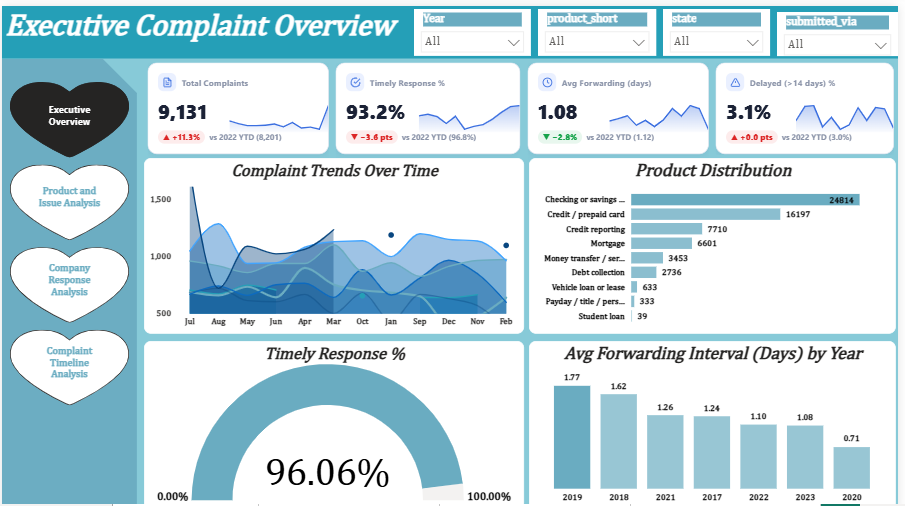

The page's visual inventory and layout, read from the dashboard file:
{"tool":"powerbi","page":{"name":"Executive Overview","canvas":[1280,720],"ordinal":0},"visuals":[{"type":"htmlContent443BE3AD55E043BF878BED274D3A6855","fields":{"content":["new tml.Card Timely"]},"box":[472,75.1,273.5,195.6],"z":0},{"type":"htmlContent443BE3AD55E043BF878BED274D3A6855","fields":{"content":["COMPANY RESPONSE.Card AvgFwd"]},"box":[745.5,75.1,269.3,195.6],"z":1000},{"type":"htmlContent443BE3AD55E043BF878BED274D3A6855","fields":{"content":["new tml.Card Complaints"]},"box":[202.7,75.1,269.3,214],"z":2000},{"type":"htmlContent443BE3AD55E043BF878BED274D3A6855","fields":{"content":["COMPANY RESPONSE.Card Delayed"]},"box":[1014.8,75.1,265,141.7],"z":3000},{"type":"shape","box":[0,75.1,192.8,644.9],"z":4000},{"type":"textbox","box":[0,0,1279.8,75.1],"z":5000},{"type":"pageNavigator","box":[11.3,109.1,170.1,464.9],"z":6000},{"type":"lineChart","title":"Complaint Trends Over Time","fields":{"Y":["Count(complaints_db complaints_clean.complaint_id)"],"Series":["Calendar.Year"],"Category":["Calendar.Month"]},"box":[202.9,217.1,542.9,251.4],"z":7000},{"type":"barChart","title":"Product Distribution","fields":{"Category":["complaints_db complaints_clean.product_short"],"Y":["Count(complaints_db complaints_clean.complaint_id)"]},"box":[752.9,217.1,524.3,251.4],"z":8000},{"type":"slicer","fields":{"Values":["Calendar.Year"]},"box":[588.6,4.3,167.1,67.1],"z":9000},{"type":"slicer","fields":{"Values":["complaints_db complaints_clean.product_short"]},"box":[765.7,4.3,168.6,67.1],"z":10000},{"type":"slicer","fields":{"Values":["complaints_db complaints_clean.state"]},"box":[944.3,4.3,152.9,67.1],"z":11000},{"type":"slicer","fields":{"Values":["complaints_db complaints_clean.submitted_via"]},"box":[1107.1,8.6,172.9,62.9],"z":12000},{"type":"gauge","fields":{"Y":["TIMELY RESPONSE.Timely Response %"]},"box":[202.9,478.6,542.9,241.4],"z":13000},{"type":"columnChart","fields":{"Y":["FORWARDING INTERVAL (2).Avg Forwarding Interval (Days)"],"Category":["Calendar.Year"]},"box":[753,479,524,241],"z":14000}]}

Visuals, with their boxes in screenshot pixels (x1, y1, x2, y2), scaled from the page's 1280x720 canvas onto the 905x506 screenshot:
htmlContent443BE3AD55E043BF878BED274D3A6855 - new tml.Card Timely: detection(334, 53, 527, 190)
htmlContent443BE3AD55E043BF878BED274D3A6855 - COMPANY RESPONSE.Card AvgFwd: detection(527, 53, 717, 190)
htmlContent443BE3AD55E043BF878BED274D3A6855 - new tml.Card Complaints: detection(143, 53, 334, 203)
htmlContent443BE3AD55E043BF878BED274D3A6855 - COMPANY RESPONSE.Card Delayed: detection(717, 53, 904, 152)
shape: detection(0, 53, 136, 505)
textbox: detection(0, 0, 904, 53)
pageNavigator: detection(8, 77, 128, 403)
"Complaint Trends Over Time" lineChart: detection(143, 153, 527, 329)
"Product Distribution" barChart: detection(532, 153, 903, 329)
slicer - Calendar.Year: detection(416, 3, 534, 50)
slicer - complaints_db complaints_clean.product_short: detection(541, 3, 661, 50)
slicer - complaints_db complaints_clean.state: detection(668, 3, 776, 50)
slicer - complaints_db complaints_clean.submitted_via: detection(783, 6, 904, 50)
gauge - TIMELY RESPONSE.Timely Response %: detection(143, 336, 527, 505)
columnChart - FORWARDING INTERVAL (2).Avg Forwarding Interval (Days) x Calendar.Year: detection(532, 337, 903, 505)
